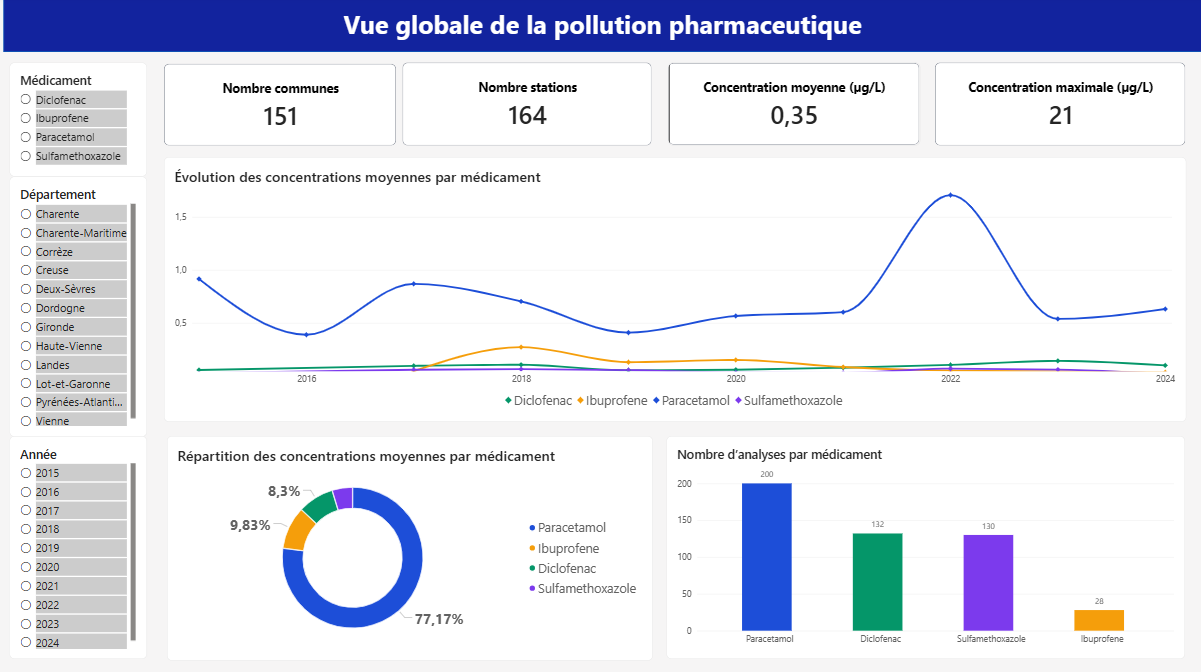

Layout of this report page (visuals, bound fields, positions):
{"tool":"powerbi","page":{"name":"Vue Globale","canvas":[1920,1080],"ordinal":0},"visuals":[{"type":"shape","box":[11.9,0,1906.3,90.7],"z":0},{"type":"listSlicer","title":"Département","fields":{"Values":["donnees_medicaments_nouvelle_aquitaine_clean.departement"]},"box":[21.4,288.3,218.9,413.7],"z":1000},{"type":"listSlicer","title":"Médicament","fields":{"Values":["donnees_medicaments_nouvelle_aquitaine_clean.medicament"]},"box":[21.4,106.8,218.9,181.5],"z":2000},{"type":"listSlicer","title":"Année","fields":{"Values":["donnees_medicaments_nouvelle_aquitaine_clean.annee"]},"box":[21.4,702,218.9,355],"z":3000},{"type":"cardVisual","fields":{"Data":["Mesures.Nombre communes"]},"box":[266.8,107.8,369.3,132.1],"z":4000},{"type":"cardVisual","fields":{"Data":["Mesures.Concentration moyenne"]},"box":[1070.1,107.8,401.6,132.1],"z":5000},{"type":"cardVisual","fields":{"Data":["Mesures.Concentration maximale"]},"box":[1493.2,107.8,398.9,132.1],"z":6000},{"type":"cardVisual","fields":{"Data":["Mesures.Nombre stations"]},"box":[646.9,107.8,396.2,132.1],"z":7000},{"type":"donutChart","title":"Répartition des concentrations moyennes par médicament","fields":{"Category":["donnees_medicaments_nouvelle_aquitaine_clean.medicament"],"Y":["Mesures.Concentration moyenne (µg/L)"]},"box":[271.9,701,773,357.2],"z":8000},{"type":"lineChart","title":"Évolution des concentrations moyennes par médicament","fields":{"Category":["Calendrier.Année"],"Y":["Mesures.Concentration moyenne (µg/L)"],"Series":["donnees_medicaments_nouvelle_aquitaine_clean.medicament"]},"box":[266.5,258.5,1625.9,421.1],"z":9000},{"type":"clusteredColumnChart","title":"Nombre d’analyses par médicament","fields":{"Y":["Mesures.Nombre analyses"],"Category":["donnees_medicaments_nouvelle_aquitaine_clean.medicament"]},"box":[1067.7,702,824.8,355],"z":10000}]}

Visuals, with their boxes in screenshot pixels (x1, y1, x2, y2), scaled from the page's 1920x1080 canvas onto the 1201x672 screenshot:
shape: {"x1": 7, "y1": 0, "x2": 1200, "y2": 56}
"Département" listSlicer: {"x1": 13, "y1": 179, "x2": 150, "y2": 437}
"Médicament" listSlicer: {"x1": 13, "y1": 66, "x2": 150, "y2": 179}
"Année" listSlicer: {"x1": 13, "y1": 437, "x2": 150, "y2": 658}
cardVisual - Mesures.Nombre communes: {"x1": 167, "y1": 67, "x2": 398, "y2": 149}
cardVisual - Mesures.Concentration moyenne: {"x1": 669, "y1": 67, "x2": 921, "y2": 149}
cardVisual - Mesures.Concentration maximale: {"x1": 934, "y1": 67, "x2": 1184, "y2": 149}
cardVisual - Mesures.Nombre stations: {"x1": 405, "y1": 67, "x2": 652, "y2": 149}
"Répartition des concentrations moyennes par médicament" donutChart: {"x1": 170, "y1": 436, "x2": 654, "y2": 658}
"Évolution des concentrations moyennes par médicament" lineChart: {"x1": 167, "y1": 161, "x2": 1184, "y2": 423}
"Nombre d’analyses par médicament" clusteredColumnChart: {"x1": 668, "y1": 437, "x2": 1184, "y2": 658}
